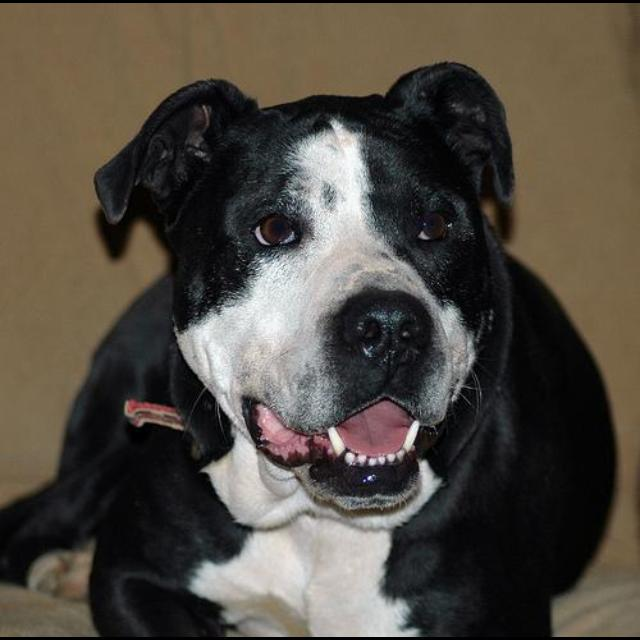amstaff: (2, 61, 621, 638)
